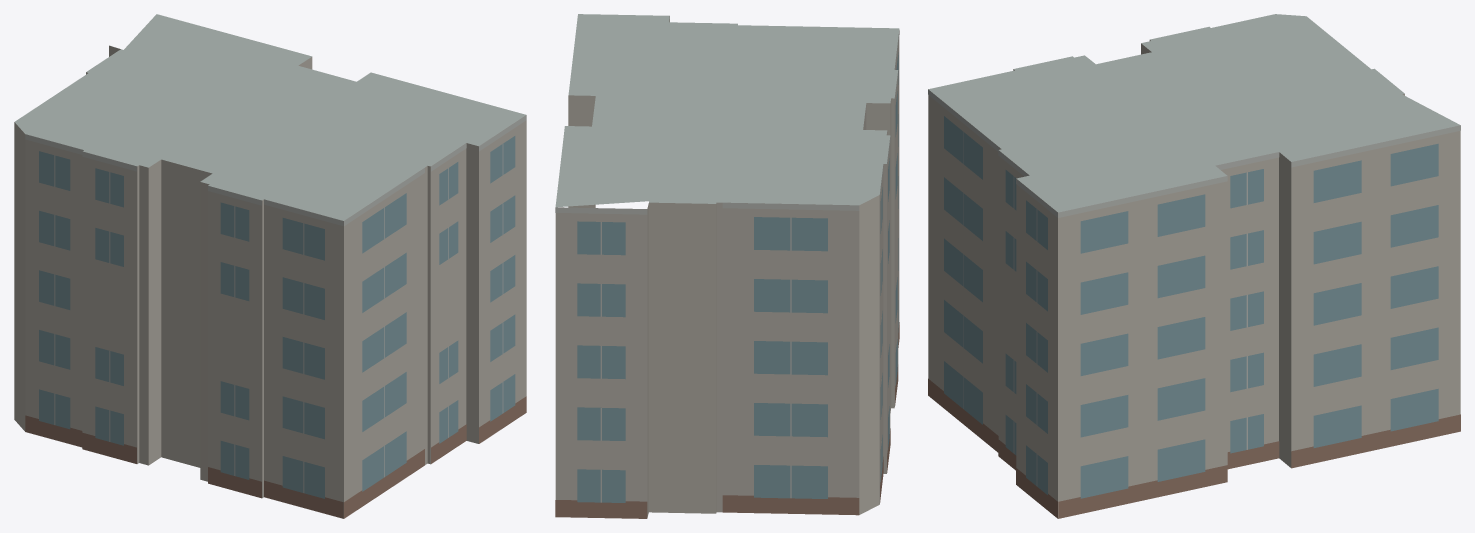
File: survey-upis-32731075.glb
The picture shows the model from 3 angles, left to right: view 1: azimuth 30°, elevation 25°; view 2: azimuth 150°, elevation 25°; view 3: azimuth 270°, elevation 25°; orthographic projection. The views are drawn at different scales.
Visible parts, largest first — view 1: survey-upis-32731075.tmp; view 2: survey-upis-32731075.tmp; view 3: survey-upis-32731075.tmp.
Boxes of the visible parts, x1=… form: survey-upis-32731075.tmp: x1=14, y1=14, x2=526, y2=518; survey-upis-32731075.tmp: x1=555, y1=14, x2=899, y2=518; survey-upis-32731075.tmp: x1=928, y1=14, x2=1460, y2=518.
Size of the model in its own units: 18.92 by 13.6 by 21.44.
